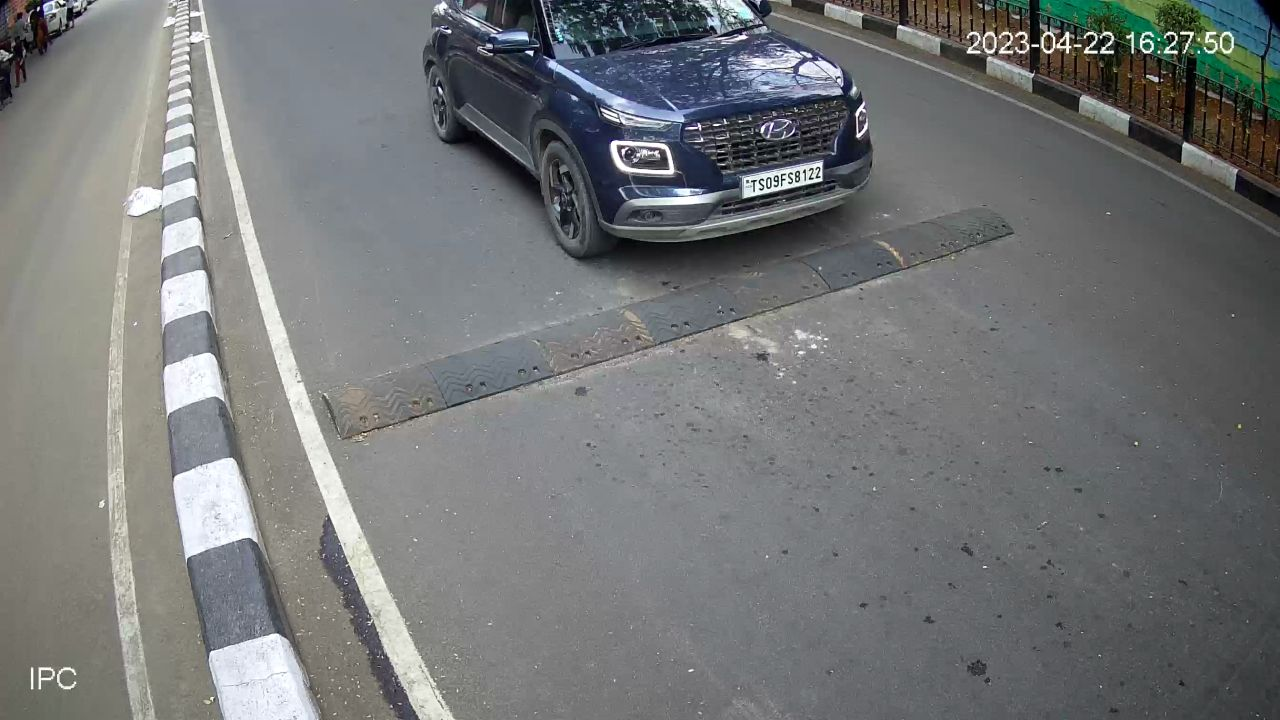license_plate: (735, 154, 830, 204)
